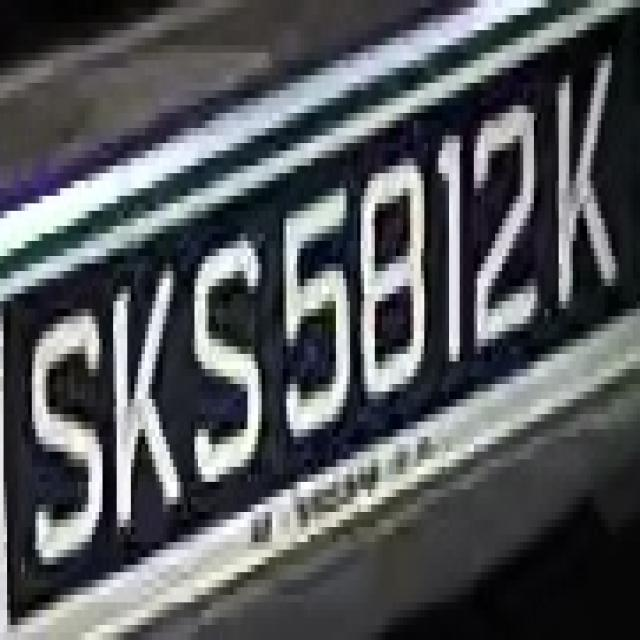1: (435, 106, 467, 392)
2: (466, 113, 552, 376)
5: (283, 166, 353, 452)
8: (353, 143, 428, 437)
K: (99, 256, 180, 535), (541, 68, 622, 324)
S: (176, 211, 262, 504), (25, 309, 106, 595)
